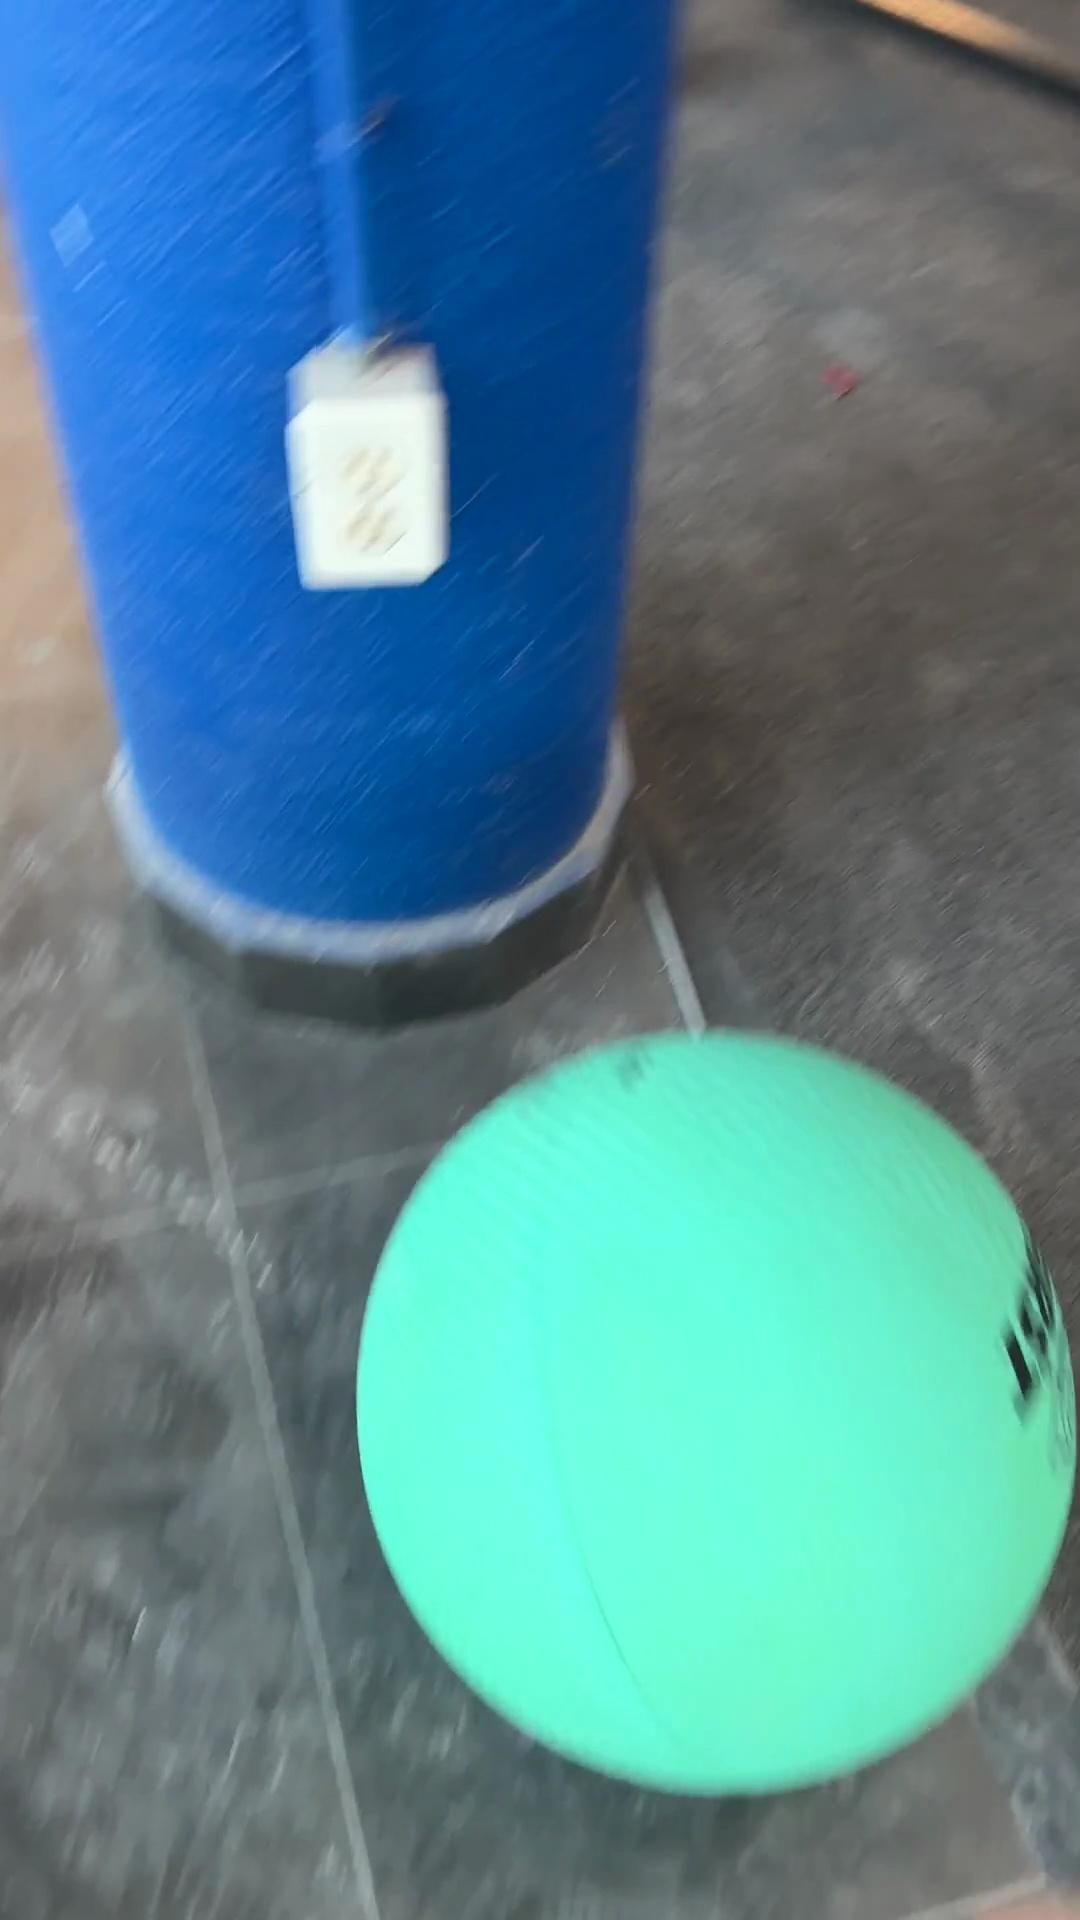ALGAE: (352, 1025, 1076, 1800)
